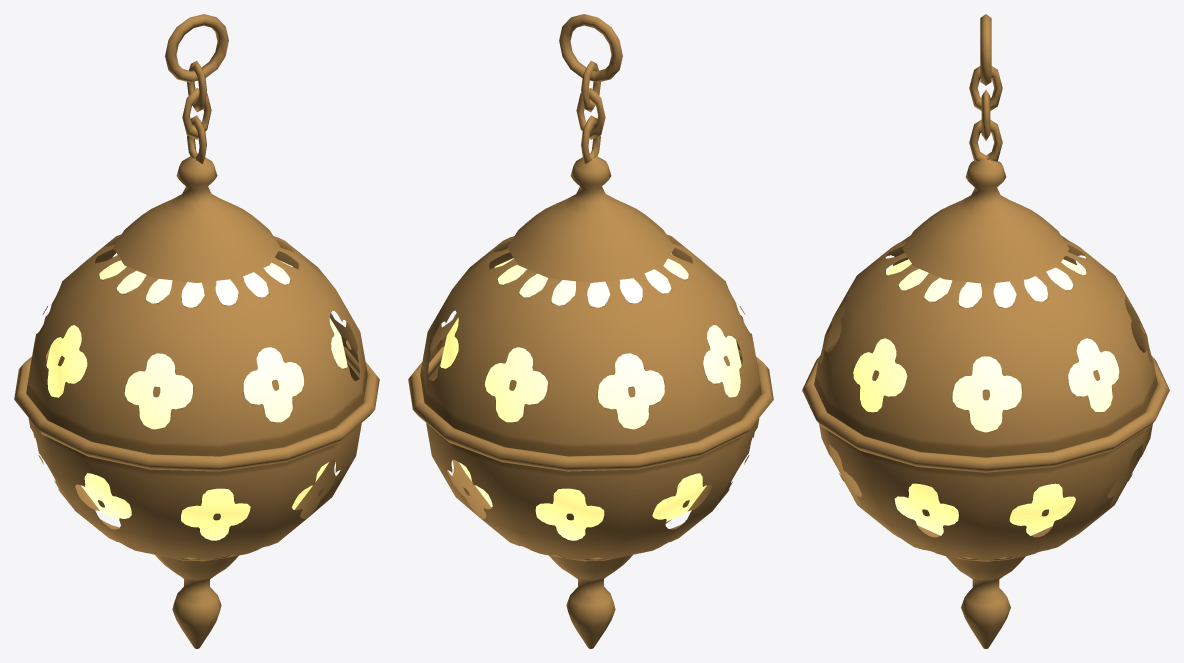
The model's file is prop-lantern-small.glb.
3 views of the same model, side by side, from view 1: azimuth 30°, elevation 25°; view 2: azimuth 150°, elevation 25°; view 3: azimuth 270°, elevation 25° (orthographic).
Parts seen in each view (by area): view 1: piece_BrassPierced, piece_Brass, piece_LampGlass; view 2: piece_BrassPierced, piece_Brass, piece_LampGlass; view 3: piece_BrassPierced, piece_Brass, piece_LampGlass.
Boxes of the visible parts, x1,y1,x2,y2 form: piece_BrassPierced: (26, 234, 367, 561); piece_Brass: (14, 14, 379, 648); piece_LampGlass: (46, 260, 347, 540); piece_BrassPierced: (420, 234, 761, 561); piece_Brass: (408, 14, 773, 648); piece_LampGlass: (440, 258, 741, 540); piece_BrassPierced: (814, 235, 1157, 561); piece_Brass: (802, 14, 1169, 648); piece_LampGlass: (853, 259, 1119, 535).
Bounding box in the file's own units: 0.132 × 0.2496 × 0.132.
3 materials, 1 textured.
